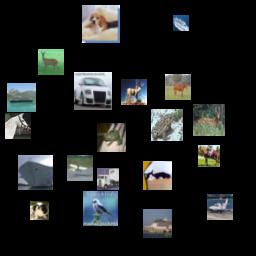airplane: (207, 194, 233, 220), (67, 155, 93, 181)
automobile: (74, 72, 112, 110)
bird: (83, 191, 118, 226)
cat: (143, 161, 172, 190)
deer: (193, 104, 225, 136), (38, 49, 64, 75), (121, 79, 147, 105)
dog: (82, 5, 120, 43), (30, 201, 49, 220)
frog: (151, 109, 183, 141), (97, 123, 126, 152)
ship: (18, 155, 53, 190), (143, 209, 172, 238), (7, 83, 36, 112), (173, 15, 189, 31)
truck: (97, 168, 119, 190)
